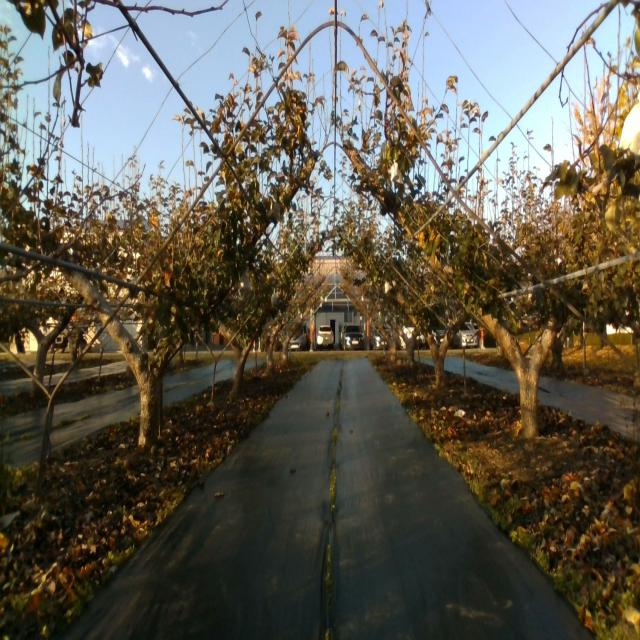pearbags: (618, 91, 640, 158), (391, 160, 404, 185)
